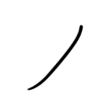no: (22, 21, 86, 93)
